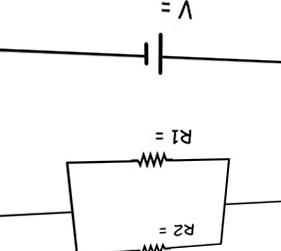resistor: (124, 149, 175, 174)
